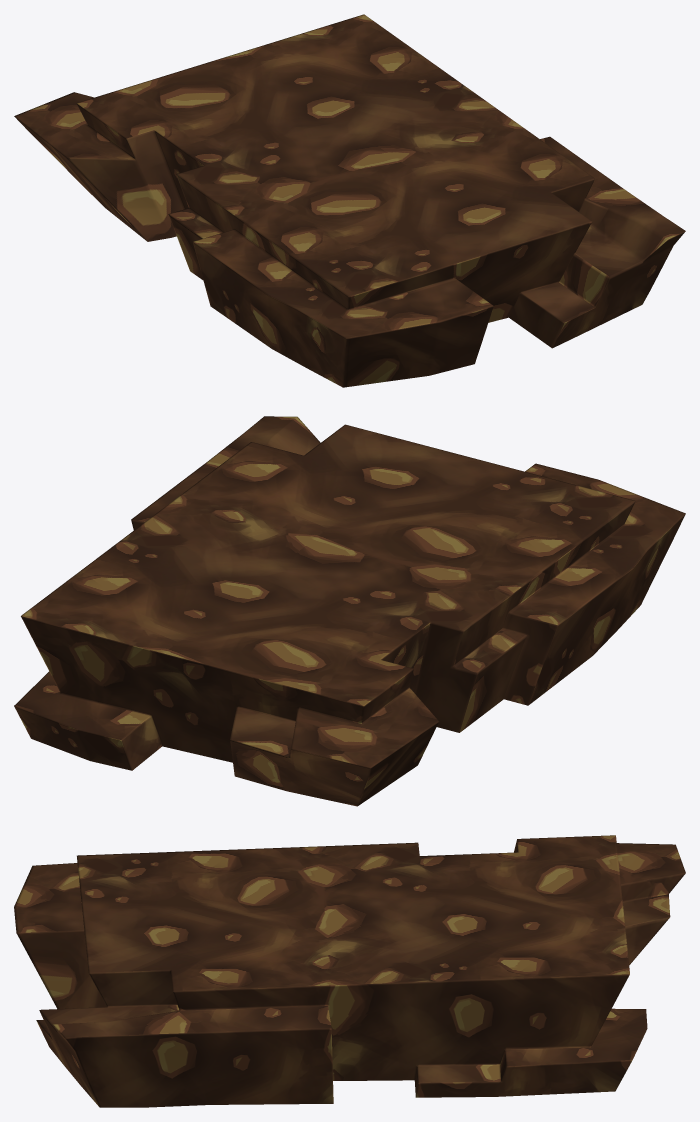
Rendered from SM_SoilPlatform_01.fbx.
The picture shows the model from 3 angles, top to bottom: view 1: azimuth 30°, elevation 25°; view 2: azimuth 150°, elevation 25°; view 3: azimuth 270°, elevation 25°; orthographic projection. The views are drawn at different scales.
Visible parts, largest first — view 1: SM_SoilPlatform_01; view 2: SM_SoilPlatform_01; view 3: SM_SoilPlatform_01.
Part boxes in pixels (x1,y1,x2,y2): SM_SoilPlatform_01: (14,14,685,387); SM_SoilPlatform_01: (14,416,685,806); SM_SoilPlatform_01: (14,835,685,1107).
Size of the model in its own units: 1765 by 494 by 2517.
Materials: 1 (1 with a texture image).
